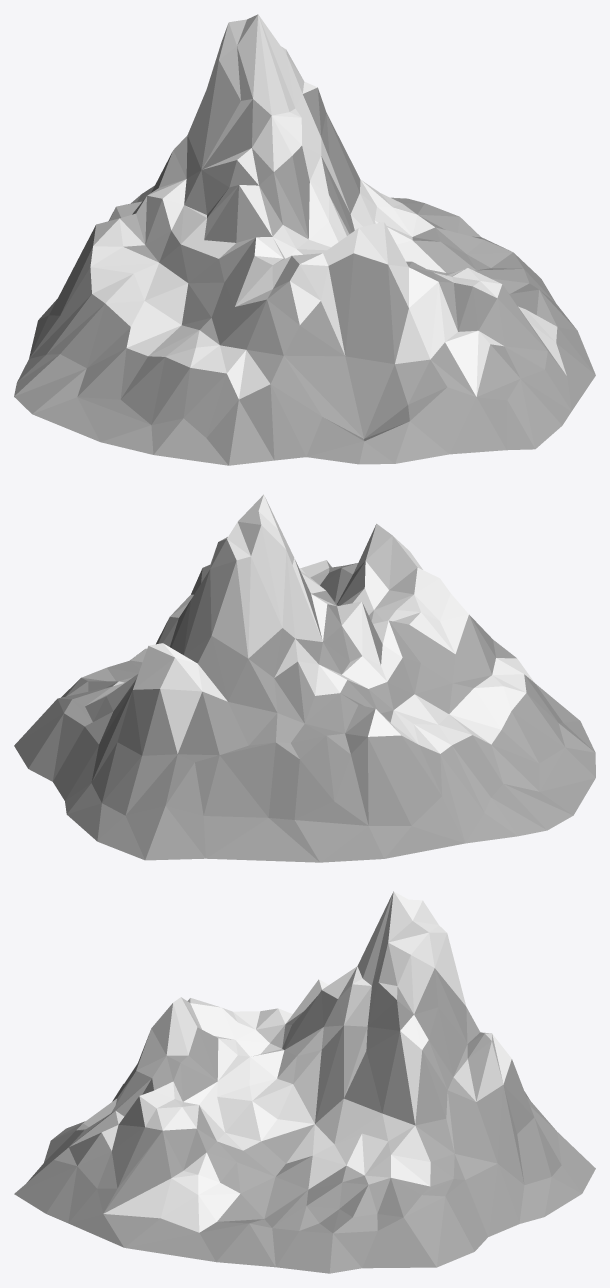
Rendered from DWE_Mountain_01A.fbx.
The picture shows the model from 3 angles, top to bottom: view 1: azimuth 30°, elevation 25°; view 2: azimuth 150°, elevation 25°; view 3: azimuth 270°, elevation 25°; orthographic projection. The views are drawn at different scales.
Parts seen in each view (by area): view 1: DWE_Mountain_01A; view 2: DWE_Mountain_01A; view 3: DWE_Mountain_01A.
Part boxes in pixels (left/top/right/bottom): DWE_Mountain_01A: left=14, top=14, right=595, bottom=465; DWE_Mountain_01A: left=14, top=494, right=595, bottom=862; DWE_Mountain_01A: left=14, top=891, right=595, bottom=1273.
Bounding box in the file's own units: 6396 × 3511 × 6801.
